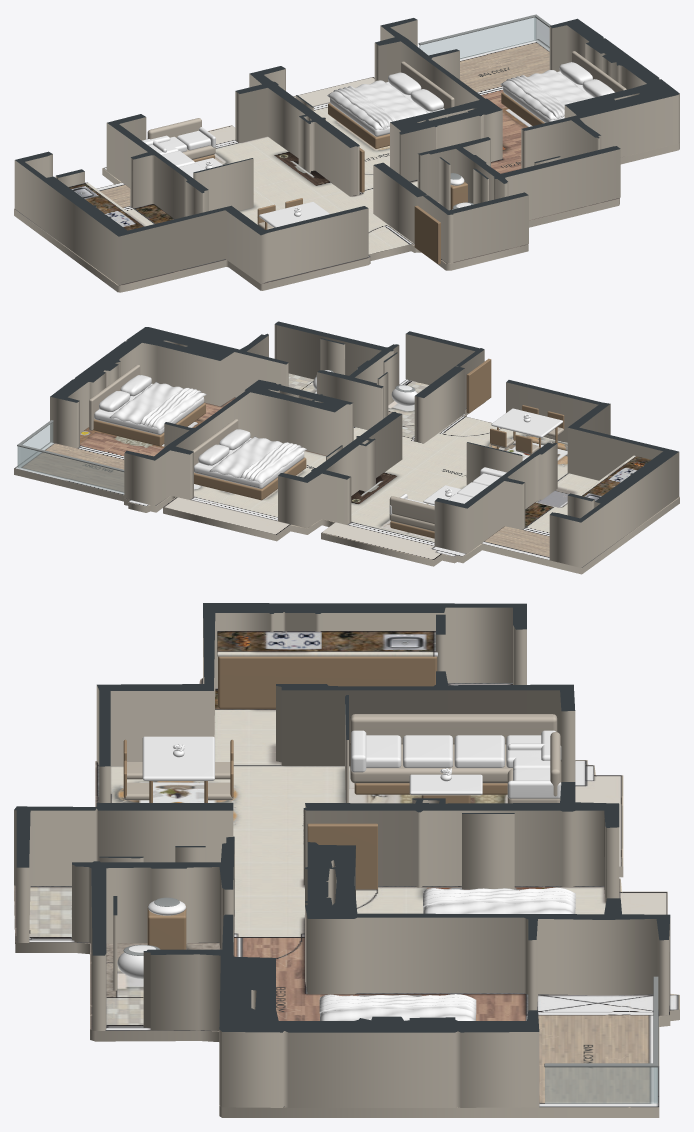
The picture shows the model from 3 angles, top to bottom: view 1: azimuth 30°, elevation 25°; view 2: azimuth 150°, elevation 25°; view 3: azimuth 270°, elevation 25°; orthographic projection. The views are drawn at different scales.
Parts seen in each view (by area): view 1: Partition walls, Apartment floor, Balcony glazing, Draped bed linen, Draped bed linen.002, Open oak door, Stone worktop, Marble dining top, Draped bed linen.001, Draped bed linen.003, Walnut upholstered base, Upholstered headboard (+8 smaller); view 2: Partition walls, Apartment floor, Balcony glazing, Draped bed linen.002, Draped bed linen, Walnut upholstered base, Marble dining top, Walnut upholstered base.001, Open oak door, Stone worktop, Piped mattress, Piped mattress.001 (+10 smaller); view 3: Partition walls, Apartment floor, Kitchen cabinets, Stone worktop, Sofa back, Balcony glazing.001, Marble dining top, Open oak door.001, Draped bed linen.003, Draped bed linen.001, Upholstered sofa frame, Draped bed linen (+8 smaller).
Boxes of the visible parts, x1,y1,x2,y2 form: Partition walls: (14,18,679,285); Apartment floor: (14,39,679,292); Balcony glazing: (419,17,536,58); Draped bed linen: (327,80,427,129); Draped bed linen.002: (500,70,592,120); Open oak door: (414,205,440,264); Stone worktop: (68,182,146,230); Marble dining top: (259,201,329,227); Draped bed linen.001: (333,86,396,128); Draped bed linen.003: (506,75,564,118); Walnut upholstered base: (328,103,389,148); Upholstered headboard: (401,61,454,108); Partition walls: (50,321,679,567); Apartment floor: (14,373,679,574); Balcony glazing: (18,446,124,493); Draped bed linen.002: (109,382,206,429); Draped bed linen: (209,436,306,483); Walnut upholstered base: (194,457,306,500); Marble dining top: (491,408,562,437); Walnut upholstered base.001: (93,403,205,446); Open oak door: (466,358,491,413); Stone worktop: (579,455,651,500); Piped mattress: (194,438,304,488); Piped mattress.001: (94,383,204,434); Partition walls: (14,603,670,1107); Apartment floor: (14,678,679,1117); Kitchen cabinets: (218,656,437,708); Stone worktop: (217,631,437,656); Sofa back: (350,714,557,744); Balcony glazing.001: (545,1067,657,1103); Marble dining top: (142,736,214,780); Open oak door.001: (307,823,377,889); Draped bed linen.003: (319,994,476,1014); Draped bed linen.001: (423,887,575,908); Upholstered sofa frame: (350,744,512,783); Draped bed linen: (423,888,575,913).
Bounding box in the file's own units: 13.94 × 1.3 × 9.12.
11 materials, 1 textured.
